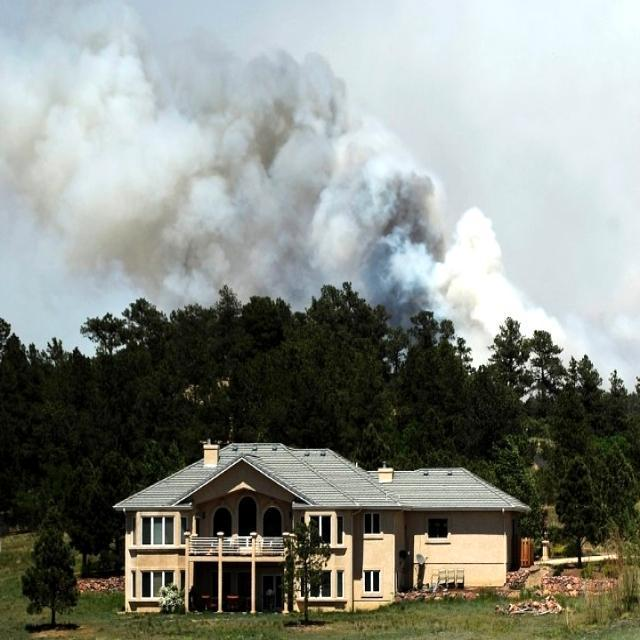Smoke: (24, 23, 476, 351)
